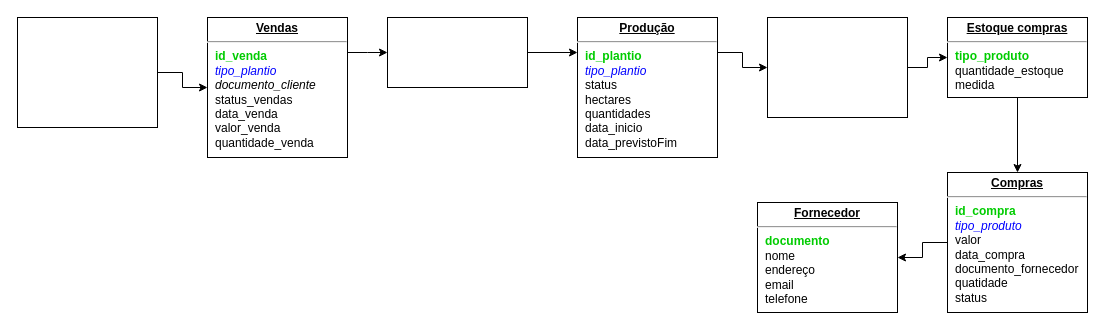
The diagram is 1105 pixels wide and 330 high, and some of its shapes have lost their labels. The shapes that lost their labels are listed below. From the top down, each one's centre as x and y in pixels, then its label:
pixel 87 72: Cliente documento nome endereço telefone email
pixel 457 52: Estoque vendas tipo_plantio quantidade_total
pixel 837 67: Gastos id_gastos id_plantio quantidade tipo_produto
